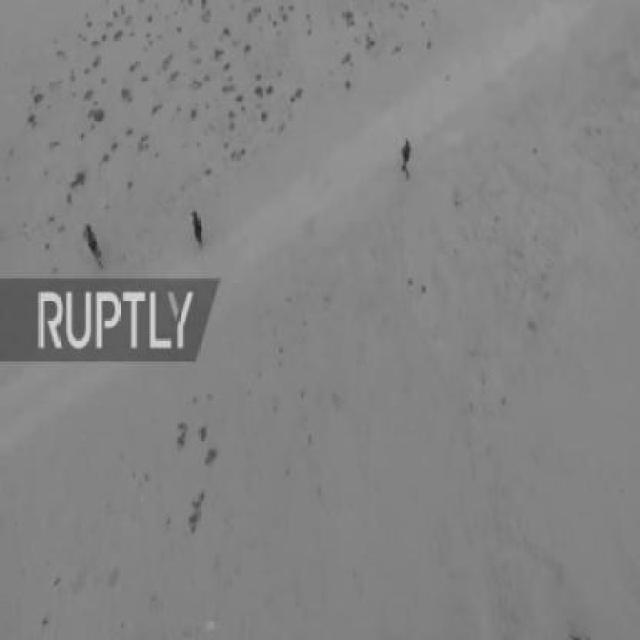Person: (83, 224, 104, 273), (189, 208, 204, 252), (398, 138, 413, 181)
